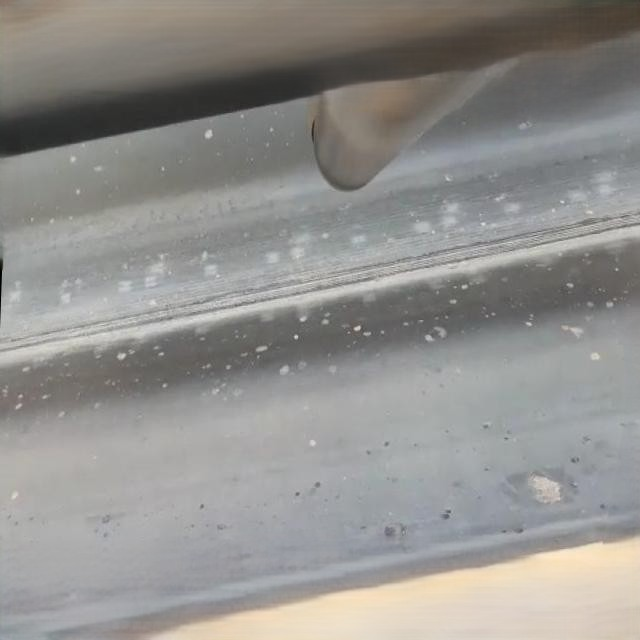Wear: (0, 200, 640, 362), (499, 472, 582, 516)
